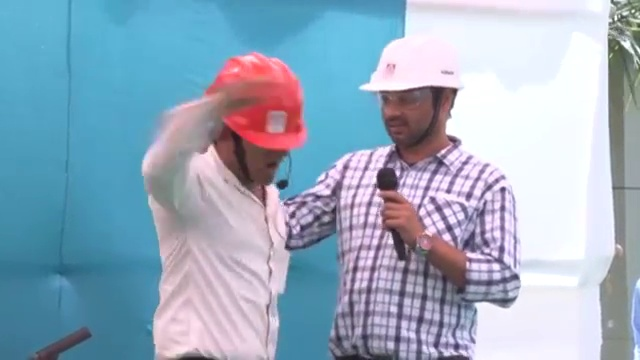helmet: (202, 50, 308, 151), (357, 30, 467, 95)
helmet_on: (199, 48, 308, 190), (355, 30, 468, 166)
person: (286, 31, 523, 360), (137, 53, 309, 360)
